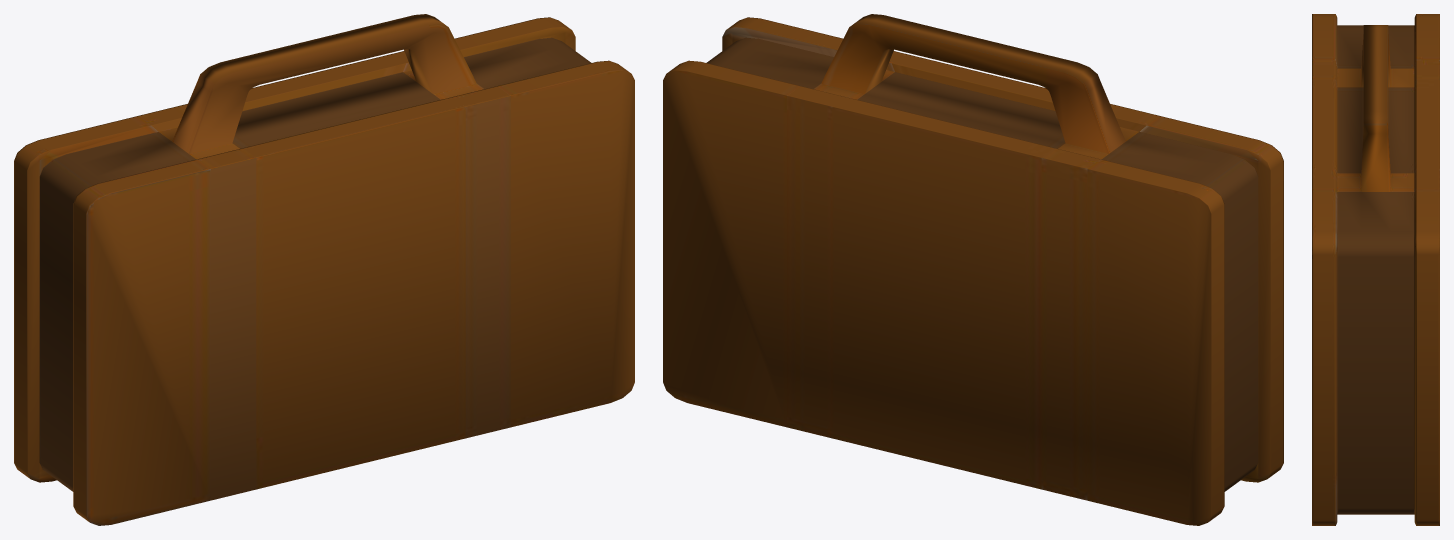
Rendered from Briefcase1.fbx.
The picture shows the model from 3 angles, left to right: view 1: azimuth 30°, elevation 25°; view 2: azimuth 150°, elevation 25°; view 3: azimuth 270°, elevation 25°; orthographic projection. The views are drawn at different scales.
Visible parts, largest first — view 1: Cube; view 2: Cube; view 3: Cube.
Part boxes in pixels (x1,y1,x2,y2): Cube: (14,14,634,525); Cube: (663,14,1283,525); Cube: (1312,14,1439,525).
Bounding box in the file's own units: 251 × 172 × 57.64.
Materials: 1 (1 with a texture image).
